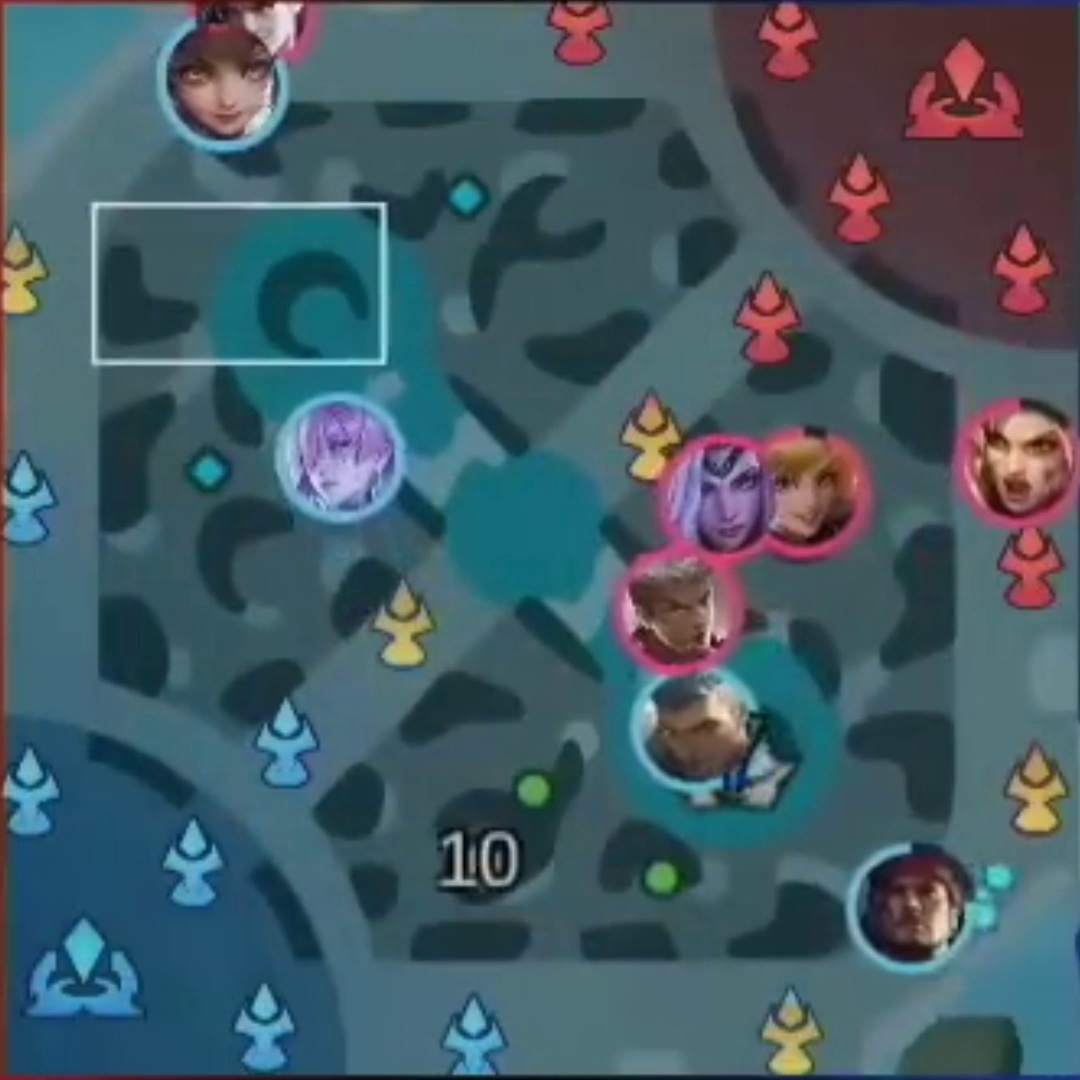Chou: (633, 561, 726, 660)
Claude: (225, 2, 299, 44)
Fanny: (777, 446, 850, 545)
Fredrinn: (657, 682, 734, 775)
Lapu-Lapu: (872, 863, 958, 947)
Masha: (977, 411, 1056, 509)
Novaria: (290, 418, 397, 502)
Valentina: (680, 458, 766, 545)
Wanwan: (177, 36, 271, 130)
